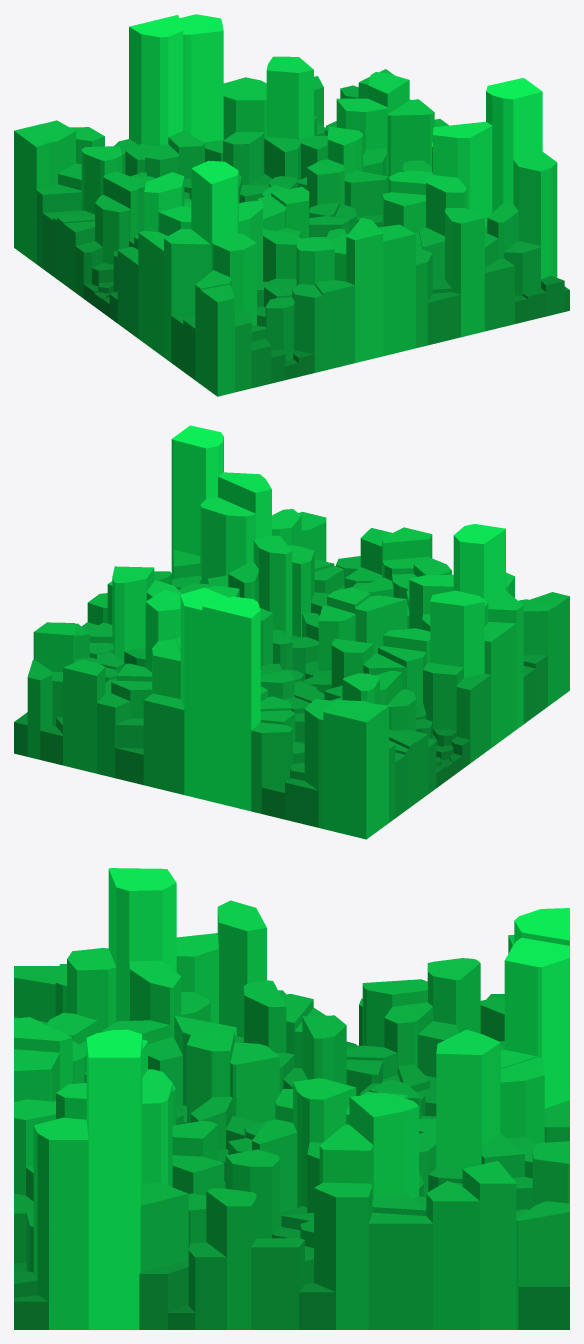
File: VTOWNg1.fbx
3 views of the same model, one above another, from view 1: azimuth 30°, elevation 25°; view 2: azimuth 150°, elevation 25°; view 3: azimuth 270°, elevation 25° (orthographic). The views are drawn at different scales.
Visible parts, largest first — view 1: オブジェクト_251, オブジェクト_103, オブジェクト_214, オブジェクト_205, オブジェクト_207, オブジェクト_100, オブジェクト_177, オブジェクト_6, オブジェクト_211, オブジェクト_51, オブジェクト_206, オブジェクト_69 (+57 smaller); view 2: オブジェクト_251, オブジェクト_51, オブジェクト_103, オブジェクト_214, オブジェクト_159, オブジェクト_276, オブジェクト_179, オブジェクト_147, オブジェクト_230, オブジェクト_244, オブジェクト_200, オブジェクト_40 (+56 smaller); view 3: オブジェクト_103, オブジェクト_207, オブジェクト_214, オブジェクト_211, オブジェクト_37, オブジェクト_154, オブジェクト_230, オブジェクト_162, オブジェクト_58, オブジェクト_200, オブジェクト_161, オブジェクト_159 (+55 smaller).
Part boxes in pixels (x1,y1,x2,y2): オブジェクト_251: [129, 15, 183, 146]; オブジェクト_103: [486, 78, 542, 212]; オブジェクト_214: [179, 14, 223, 142]; オブジェクト_205: [346, 218, 383, 362]; オブジェクト_207: [513, 151, 557, 279]; オブジェクト_100: [445, 208, 484, 337]; オブジェクト_177: [433, 121, 492, 226]; オブジェクト_6: [378, 224, 415, 356]; オブジェクト_211: [266, 56, 313, 139]; オブジェクト_51: [14, 124, 50, 263]; オブジェクト_206: [200, 284, 234, 396]; オブジェクト_69: [164, 229, 210, 362]; オブジェクト_251: [202, 596, 260, 811]; オブジェクト_51: [340, 703, 388, 839]; オブジェクト_103: [171, 425, 223, 580]; オブジェクト_214: [180, 587, 228, 799]; オブジェクト_159: [430, 590, 484, 677]; オブジェクト_276: [63, 659, 105, 773]; オブジェクト_179: [143, 693, 184, 794]; オブジェクト_147: [200, 497, 255, 583]; オブジェクト_230: [453, 524, 505, 601]; オブジェクト_244: [484, 622, 516, 747]; オブジェクト_200: [112, 566, 154, 660]; オブジェクト_40: [253, 535, 292, 634]; オブジェクト_103: [86, 1029, 142, 1329]; オブジェクト_207: [33, 1117, 88, 1329]; オブジェクト_214: [504, 937, 569, 1108]; オブジェクト_211: [436, 1029, 500, 1168]; オブジェクト_37: [368, 1212, 432, 1329]; オブジェクト_154: [314, 1182, 372, 1329]; オブジェクト_230: [108, 868, 176, 1021]; オブジェクト_162: [426, 1181, 479, 1329]; オブジェクト_58: [462, 1161, 516, 1329]; オブジェクト_200: [349, 1093, 418, 1198]; オブジェクト_161: [206, 1188, 256, 1329]; オブジェクト_159: [217, 900, 266, 1037].
Bounding box in the file's own units: 100 × 100 × 54.
